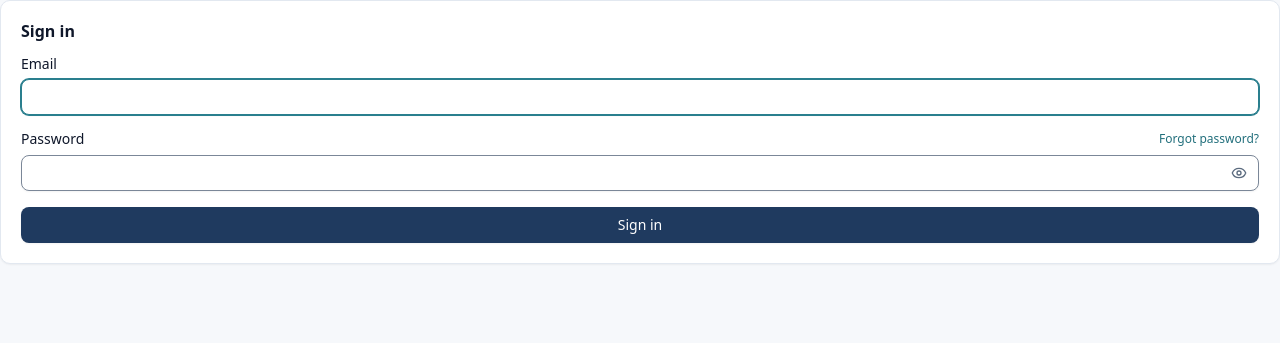
Test: LoginForm › shows a clear message when sign-in fails
The image size is (1280, 343).
In the field labelled "Email": {"x": 640, "y": 97} [21, 79, 1259, 115], type "admin@example.com"
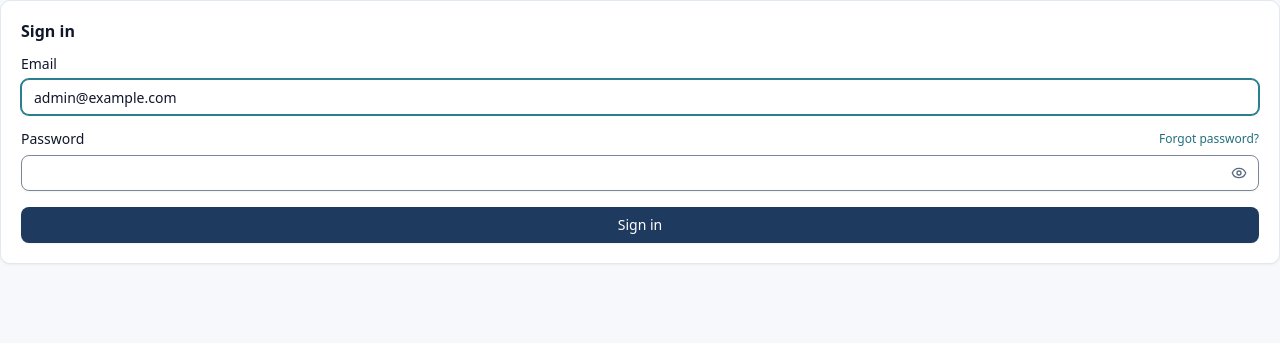
In the password field labelled "Password": {"x": 640, "y": 173} [21, 155, 1259, 191], type "not the password"
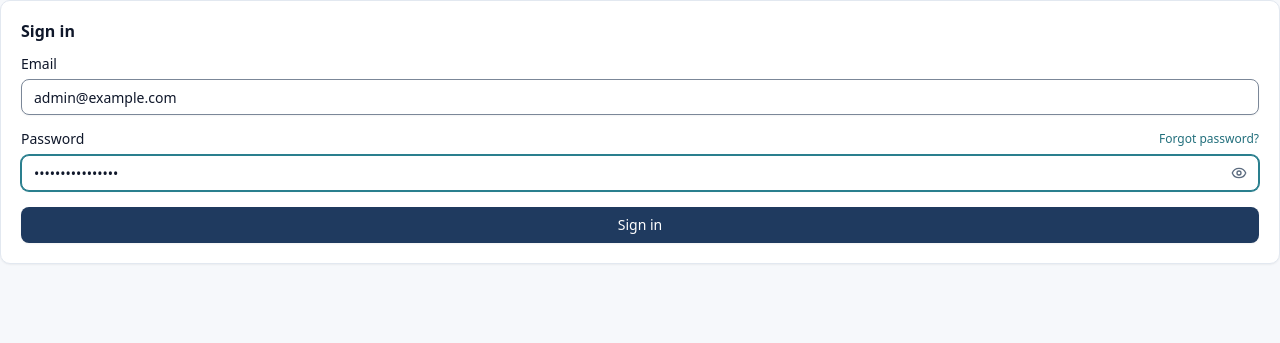
Click the button "Sign in": {"x": 640, "y": 225} [21, 207, 1259, 243]
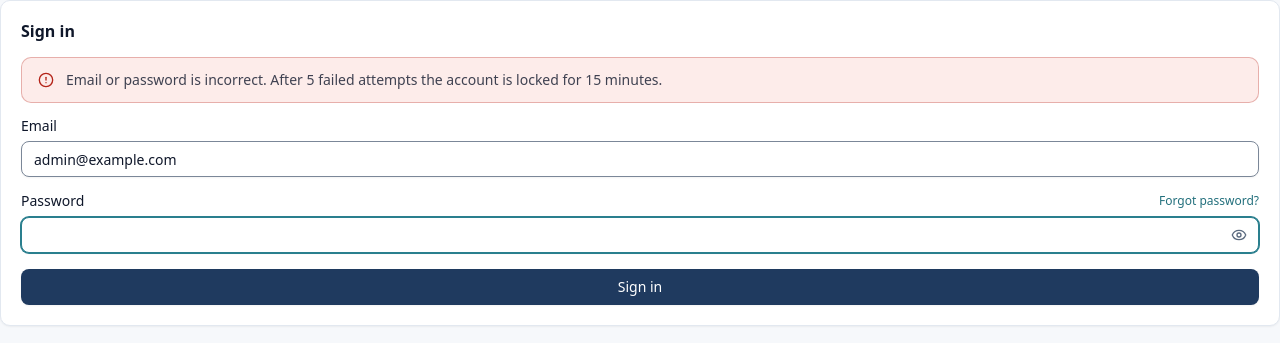
Now the message shows "Email or password is incorrect.", box [66, 70, 662, 89]
Now the message shows "locked for 15 minutes", box [66, 70, 662, 89]
Now the password field labelled "Password" is empty, box [21, 217, 1259, 253]
